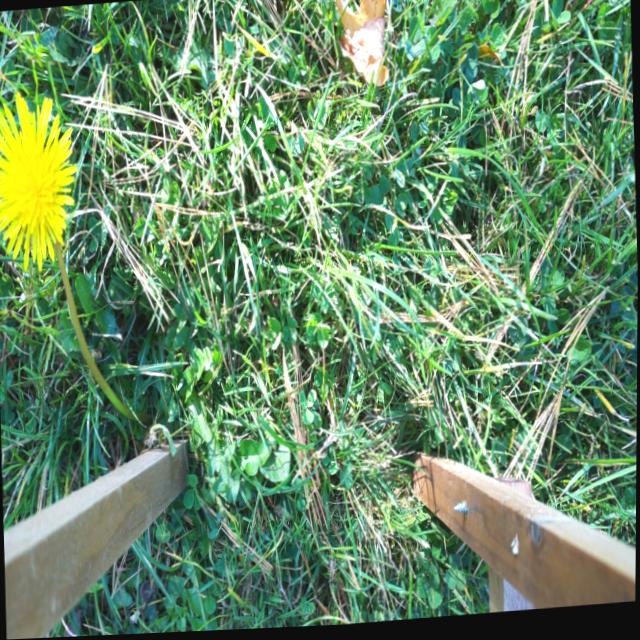base: (132, 396, 164, 443)
